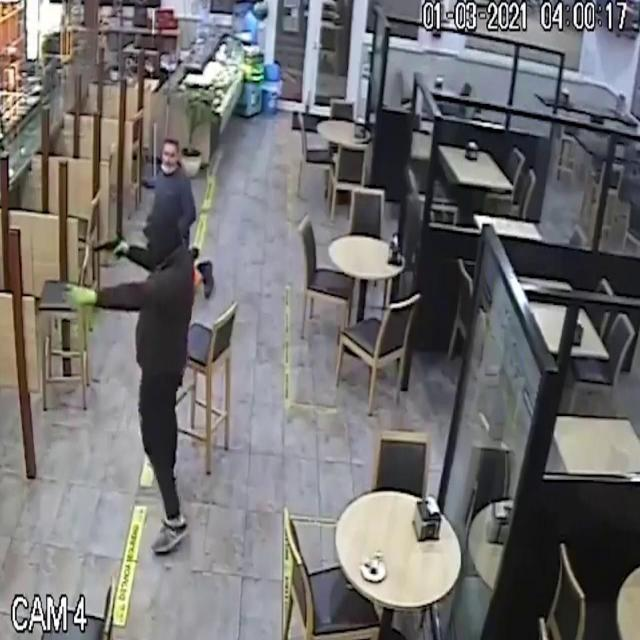weapon: (84, 221, 136, 279)
